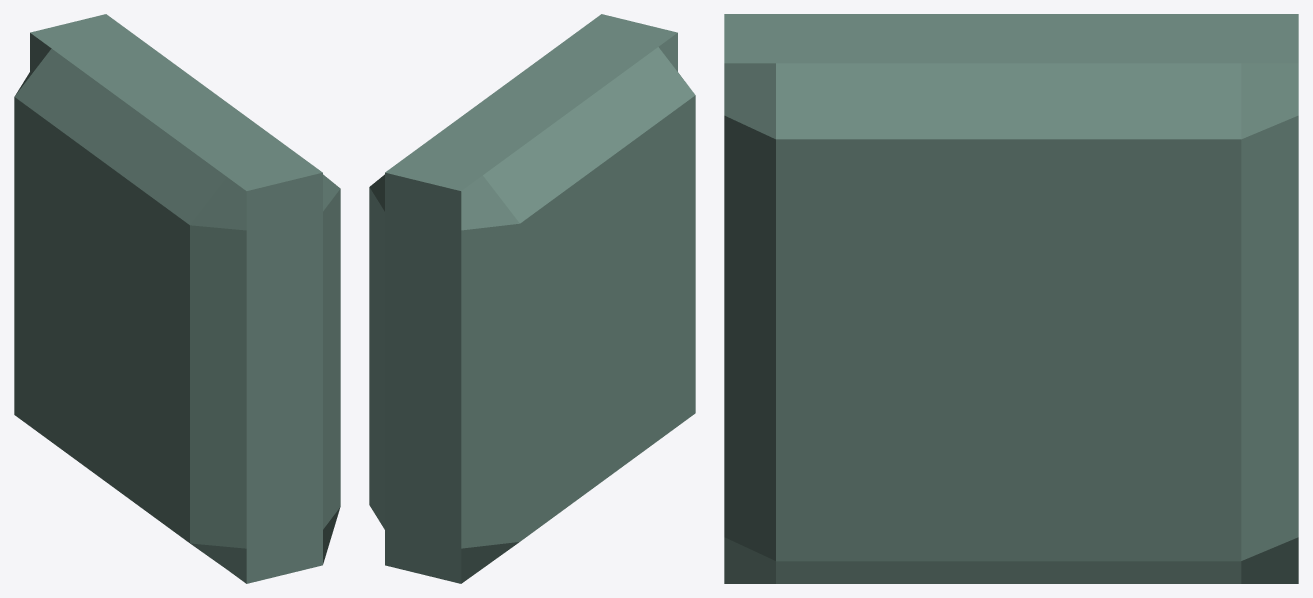
File: Pillow_Green.fbx
3 renders of one model, left to right at view 1: azimuth 30°, elevation 25°; view 2: azimuth 150°, elevation 25°; view 3: azimuth 270°, elevation 25°, orthographic. The views are drawn at different scales.
Parts seen in each view (by area): view 1: pillowGreen_geo; view 2: pillowGreen_geo; view 3: pillowGreen_geo.
Part boxes in pixels (x1,y1,x2,y2): pillowGreen_geo: [14, 14, 340, 583]; pillowGreen_geo: [369, 14, 695, 583]; pillowGreen_geo: [724, 14, 1298, 583].
Size of the model in its own units: 46.86 by 117 by 117.
